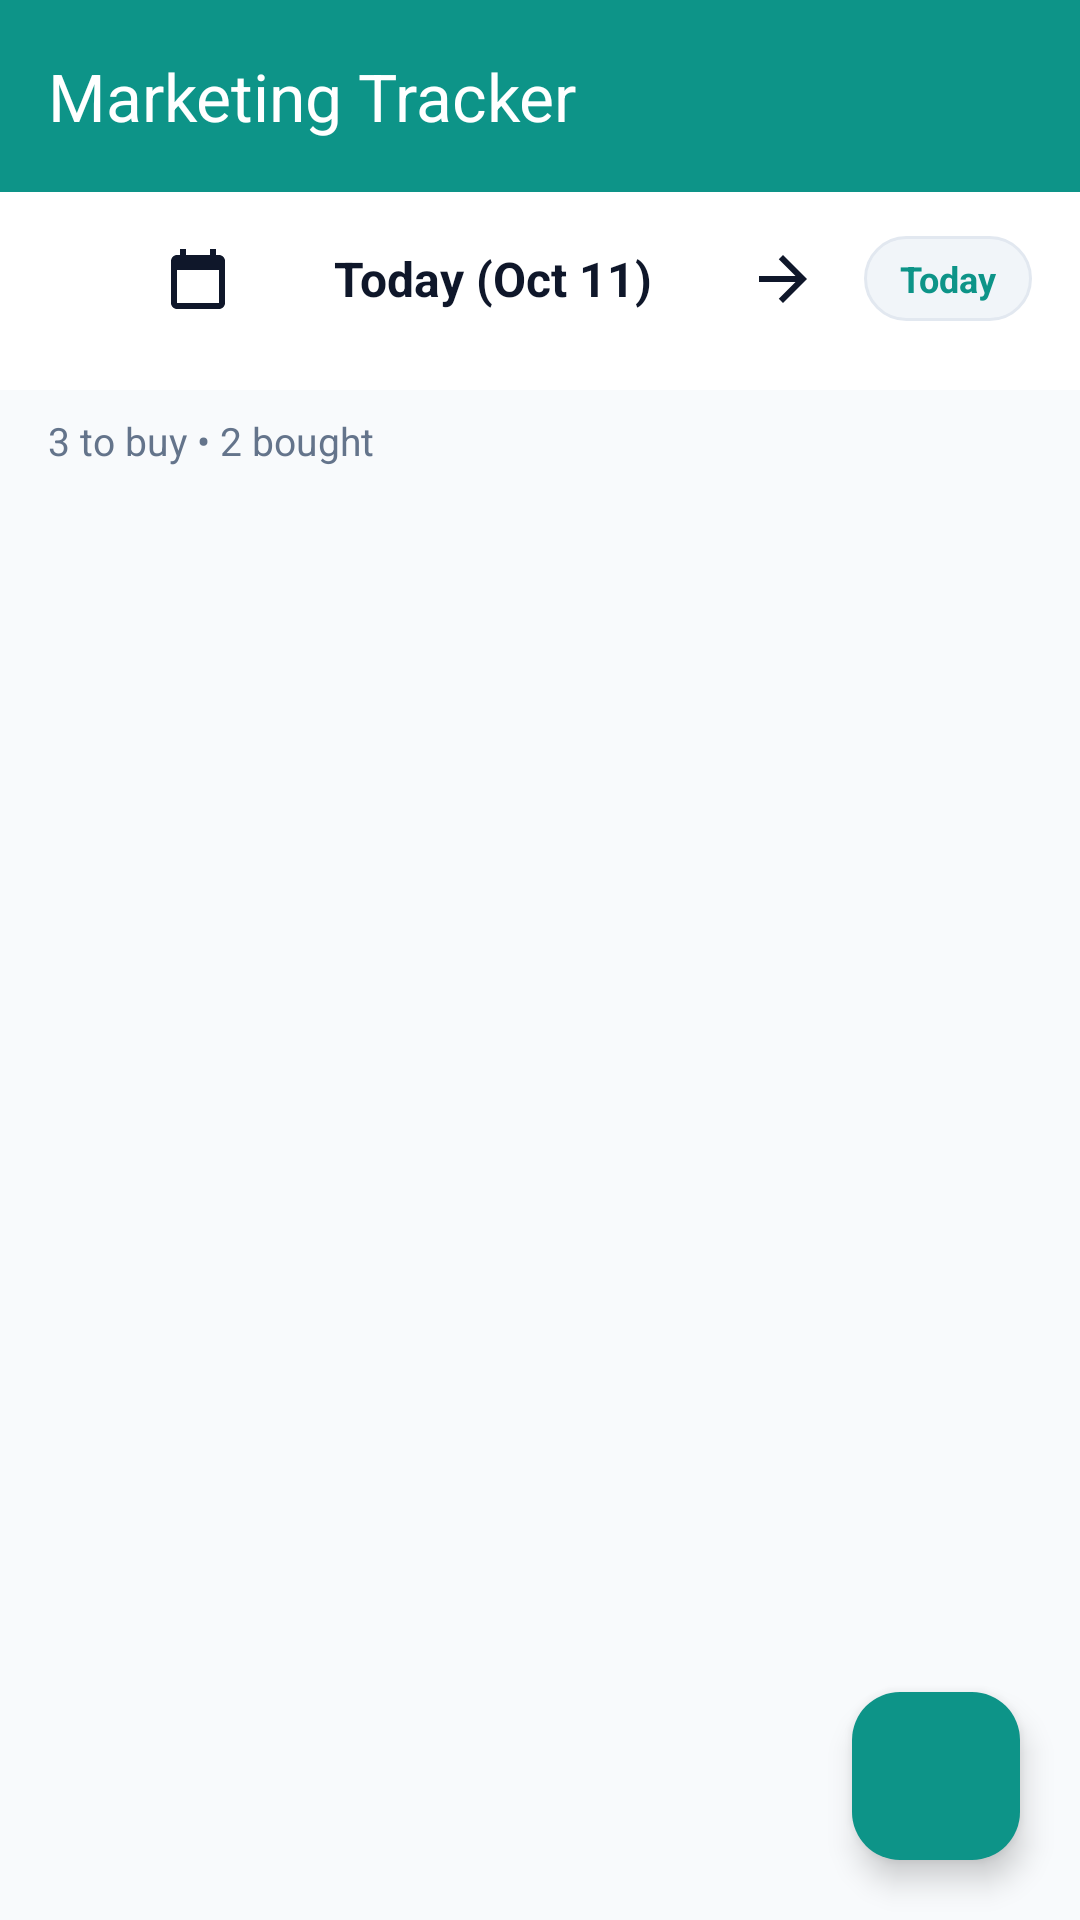

Icons on this 1080 x 1920 Android screen, each with the point to tap as [x,y]:
Next Day: [783,279]
